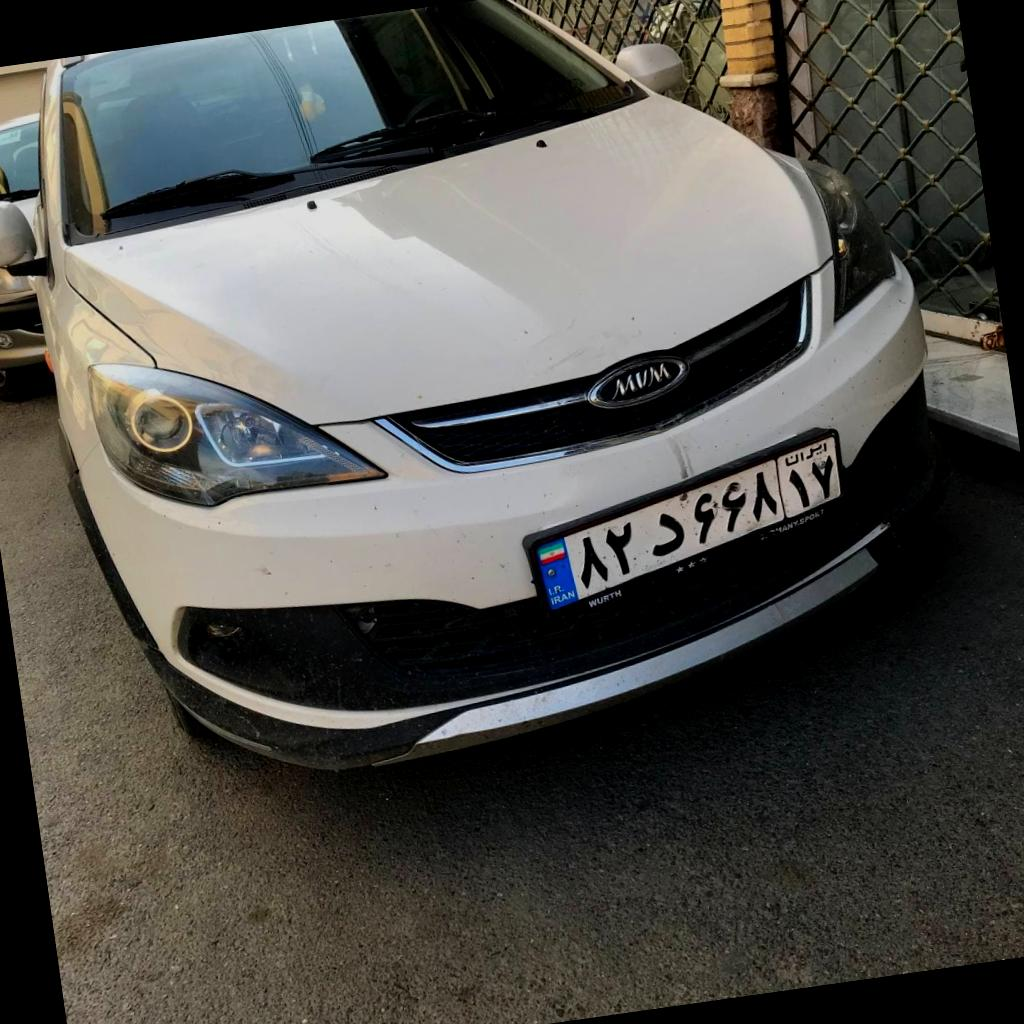Plates: (533, 434, 842, 614)
